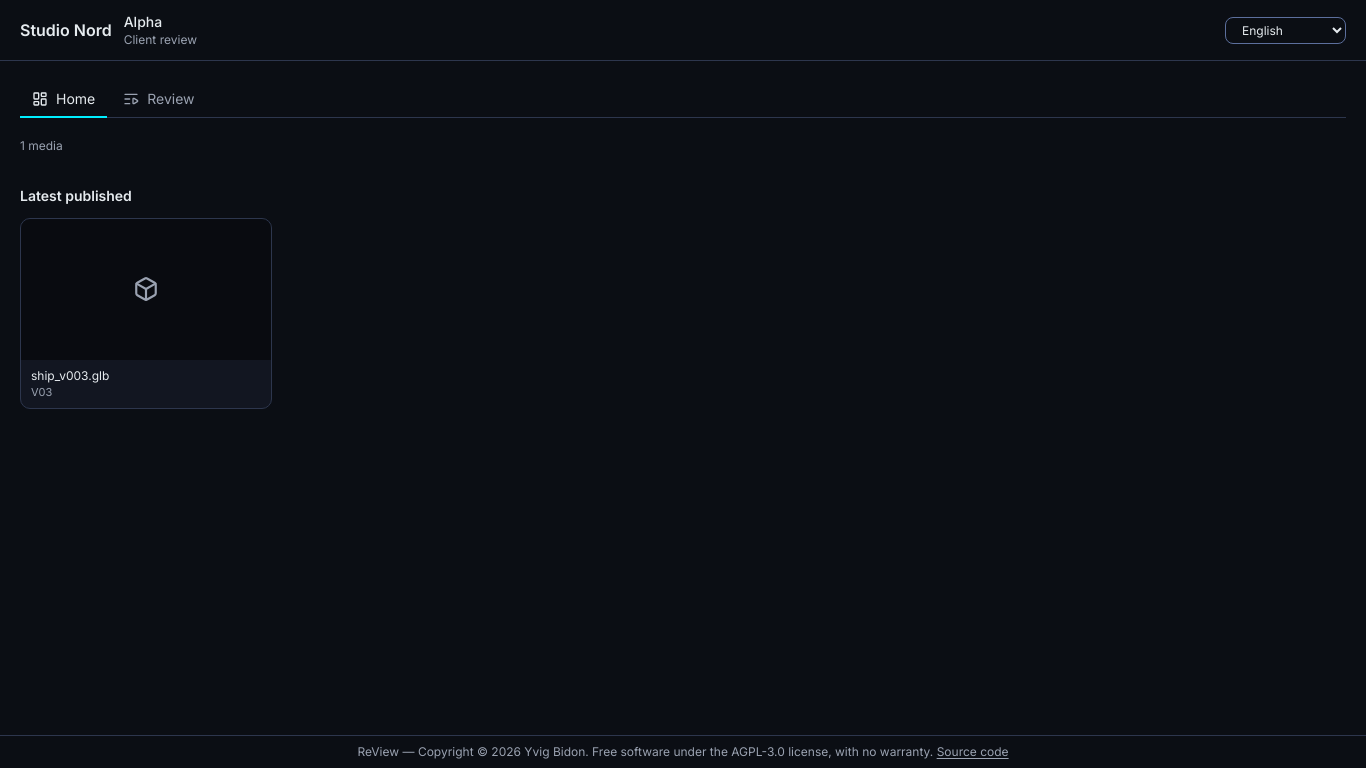
ClientSharePage › does not offer to write on a read-only link
The image size is (1366, 768).
Click the button "ship_v003.glb V03".
click(146, 313)  # box [20,218,272,409]
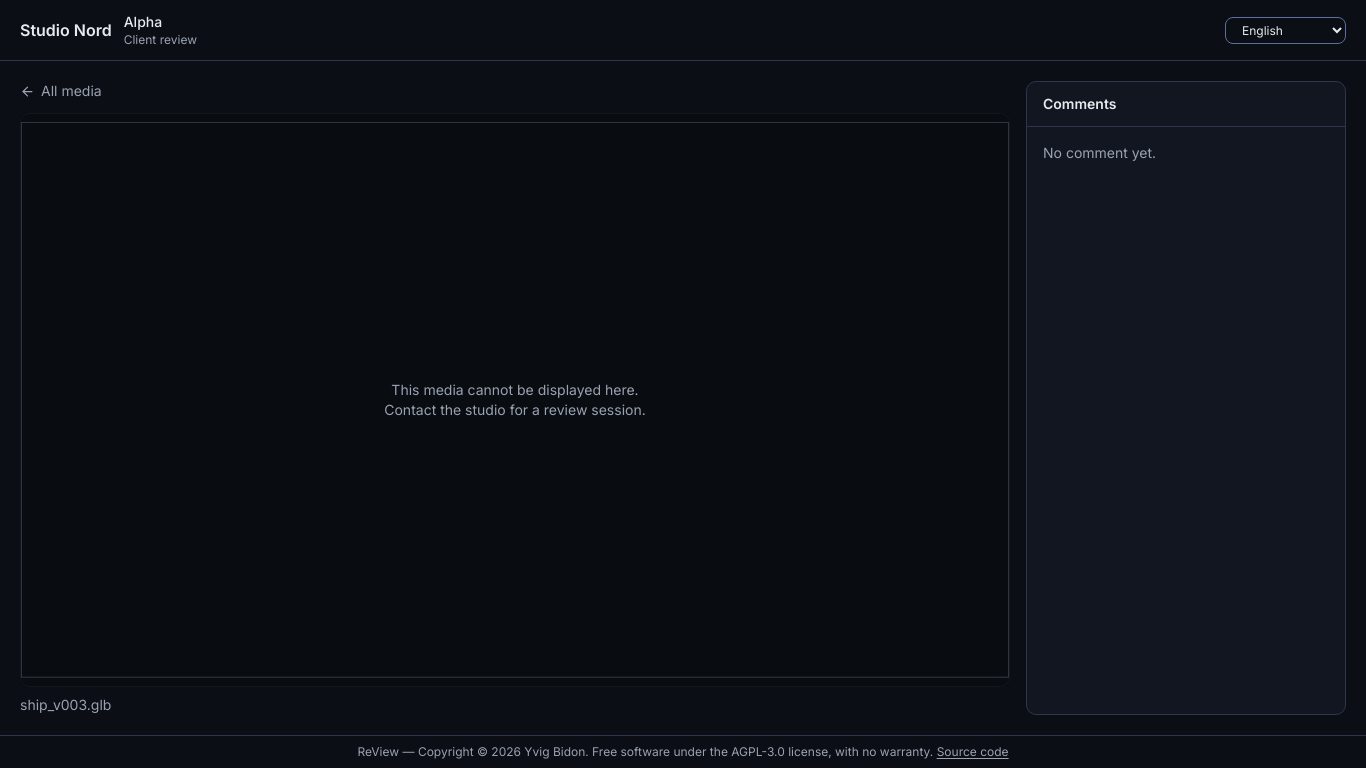
Check: the element that starts with "This media cannot be displayed here." is shown, box [384,380,646,420]
